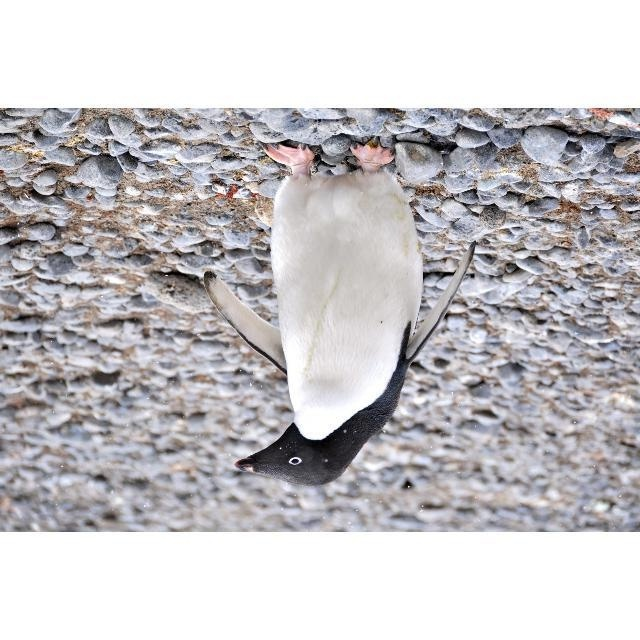penguin: (204, 142, 476, 486)
